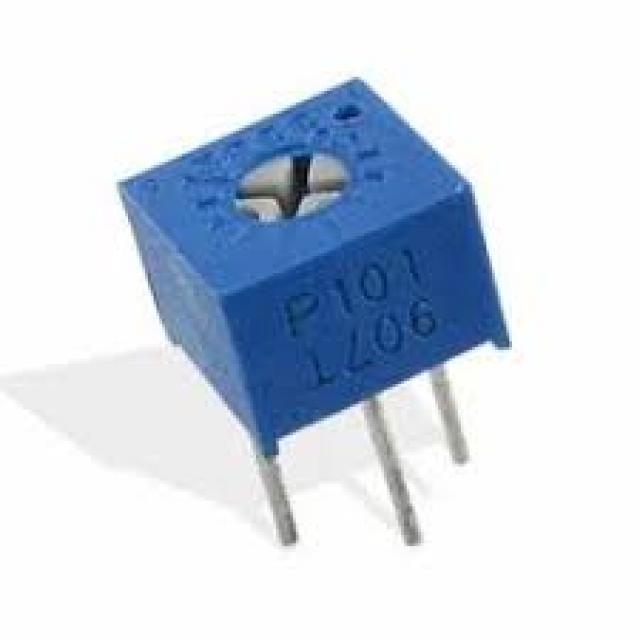potentiometer POT1: (108, 67, 514, 442)
